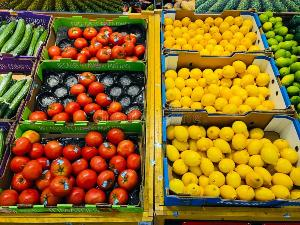cucumber: (0, 16, 49, 64), (0, 18, 49, 62), (0, 64, 30, 124), (0, 70, 28, 119)
lemon: (163, 117, 300, 198), (160, 53, 286, 111), (162, 8, 260, 54)
lime: (262, 12, 300, 112)
tomato: (1, 128, 146, 208), (23, 66, 147, 128), (50, 19, 148, 59)
